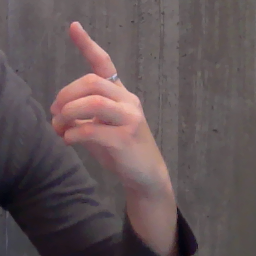D: (49, 20, 174, 189)
